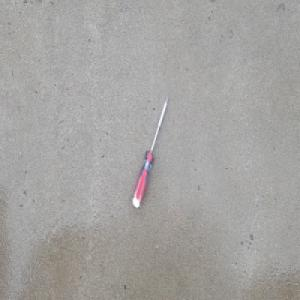Screwdriver: (131, 92, 170, 209)
